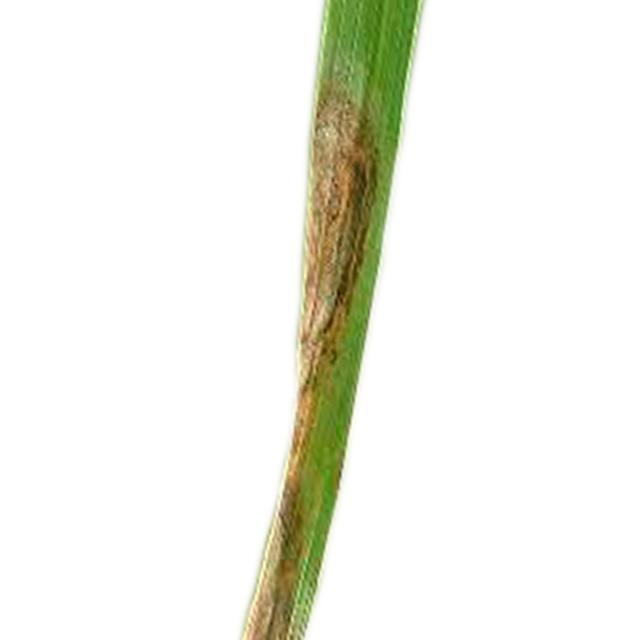Leaf scald: (136, 0, 483, 639)
